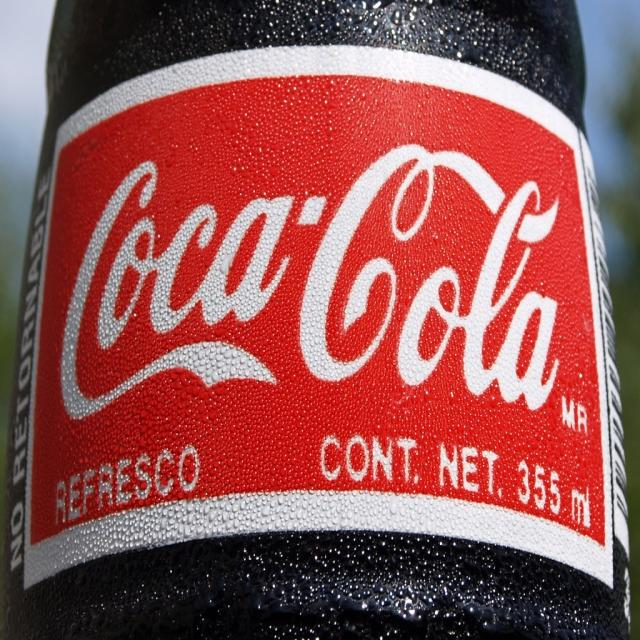cocacola: (51, 127, 576, 439)
